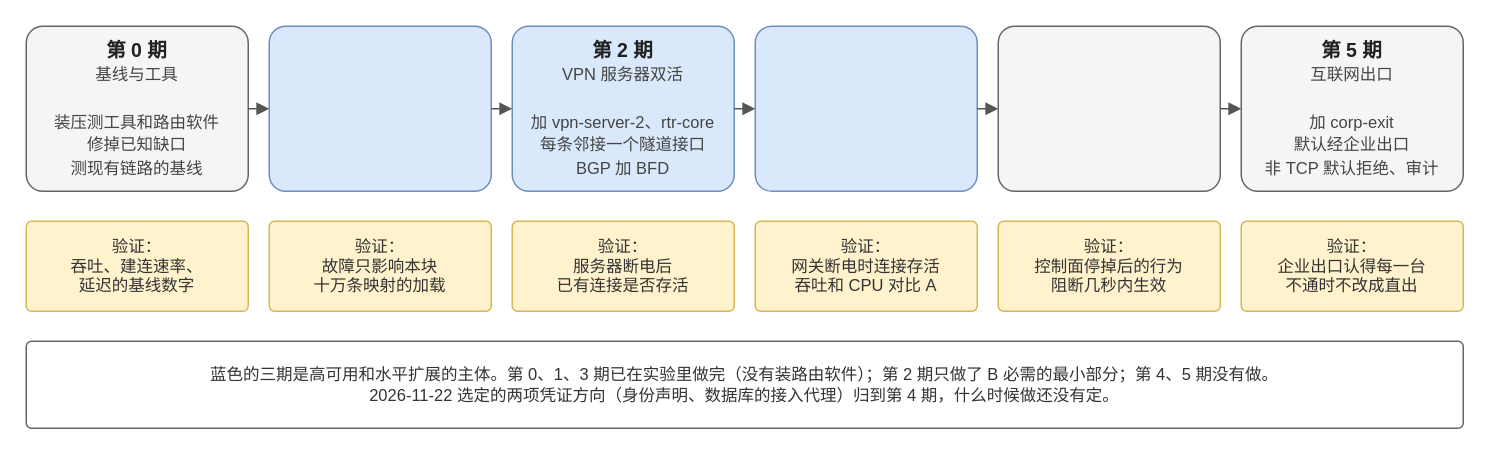
This 1490x455 diagram has some shape labels left out. Each missing label, with the box of its shape:
第 1 期 分片与多单元 加 rtr-acc、egress-2、 gw-3、vm-farm 两个单元加共享热备: (268, 25, 491, 191)
第 3 期 数据面 B 并排 地址转换搬到 Egress 网关无状态多活 同一套测试各跑一遍: (754, 25, 977, 191)
第 4 期 控制面与凭证 加 ctrl，配置原子下发 按身份查凭证 逐台阻断: (997, 25, 1220, 191)
